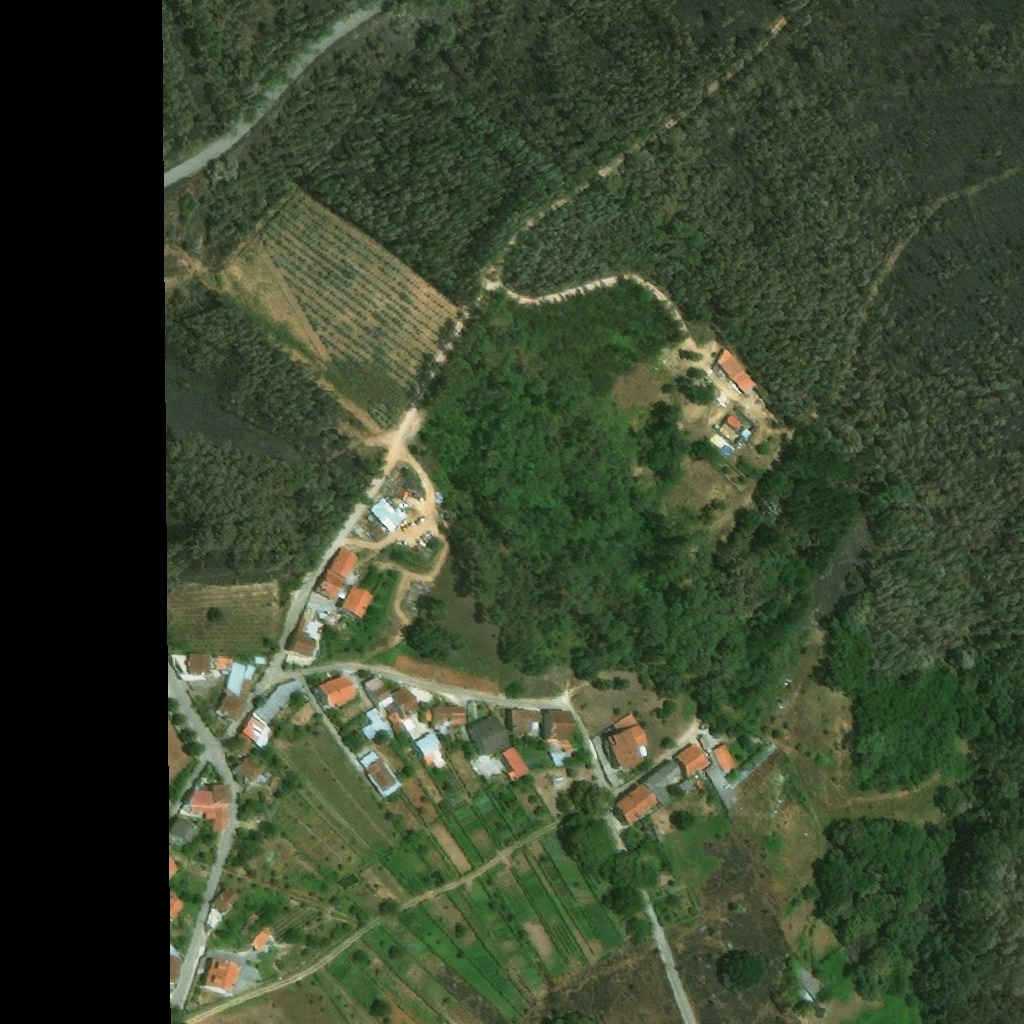0 no-damage: (699, 734, 742, 814), (364, 675, 419, 735), (182, 783, 234, 833), (611, 712, 650, 769), (358, 750, 403, 799), (370, 493, 412, 541), (717, 345, 757, 394), (615, 782, 661, 824), (789, 959, 827, 1008), (291, 603, 326, 656), (469, 715, 512, 755), (644, 760, 681, 805), (253, 684, 291, 722), (239, 712, 277, 749), (202, 957, 242, 992), (673, 744, 711, 779), (318, 675, 356, 708), (361, 707, 394, 743), (341, 584, 374, 619), (501, 746, 530, 782), (328, 546, 360, 578), (236, 755, 272, 783), (424, 703, 466, 727), (315, 567, 347, 598), (208, 884, 239, 915), (546, 709, 576, 741), (414, 731, 442, 765), (546, 742, 579, 767), (217, 694, 247, 719), (226, 661, 245, 696), (714, 744, 737, 772), (511, 710, 541, 731), (175, 816, 199, 842), (230, 731, 254, 756), (249, 928, 272, 951), (187, 652, 210, 674), (725, 414, 743, 431), (215, 655, 234, 671), (245, 663, 258, 680), (176, 895, 185, 918), (677, 779, 691, 793), (741, 427, 753, 439), (254, 655, 268, 664), (761, 407, 772, 417)
